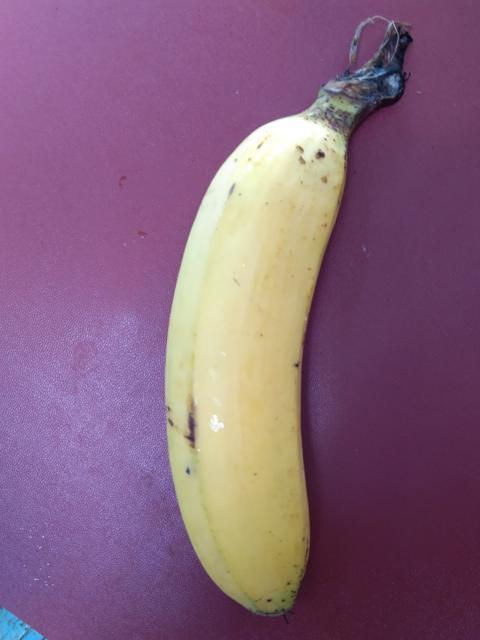freshripe: (138, 96, 374, 639)
